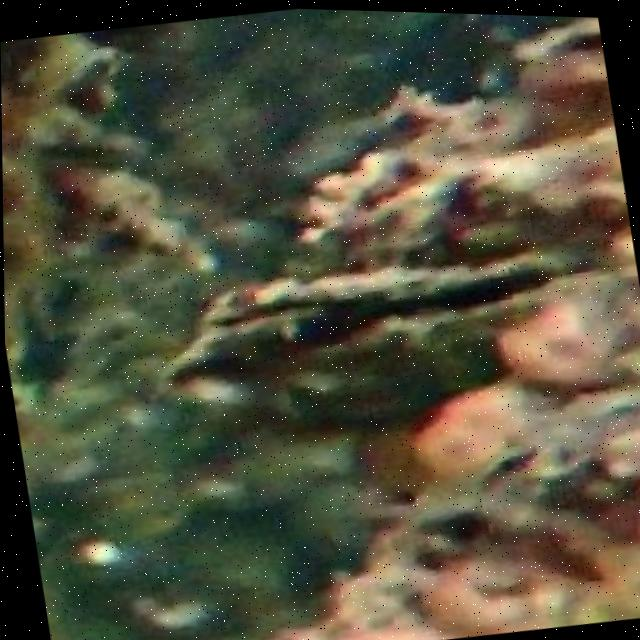Oyster-Closed: (197, 251, 573, 422)
